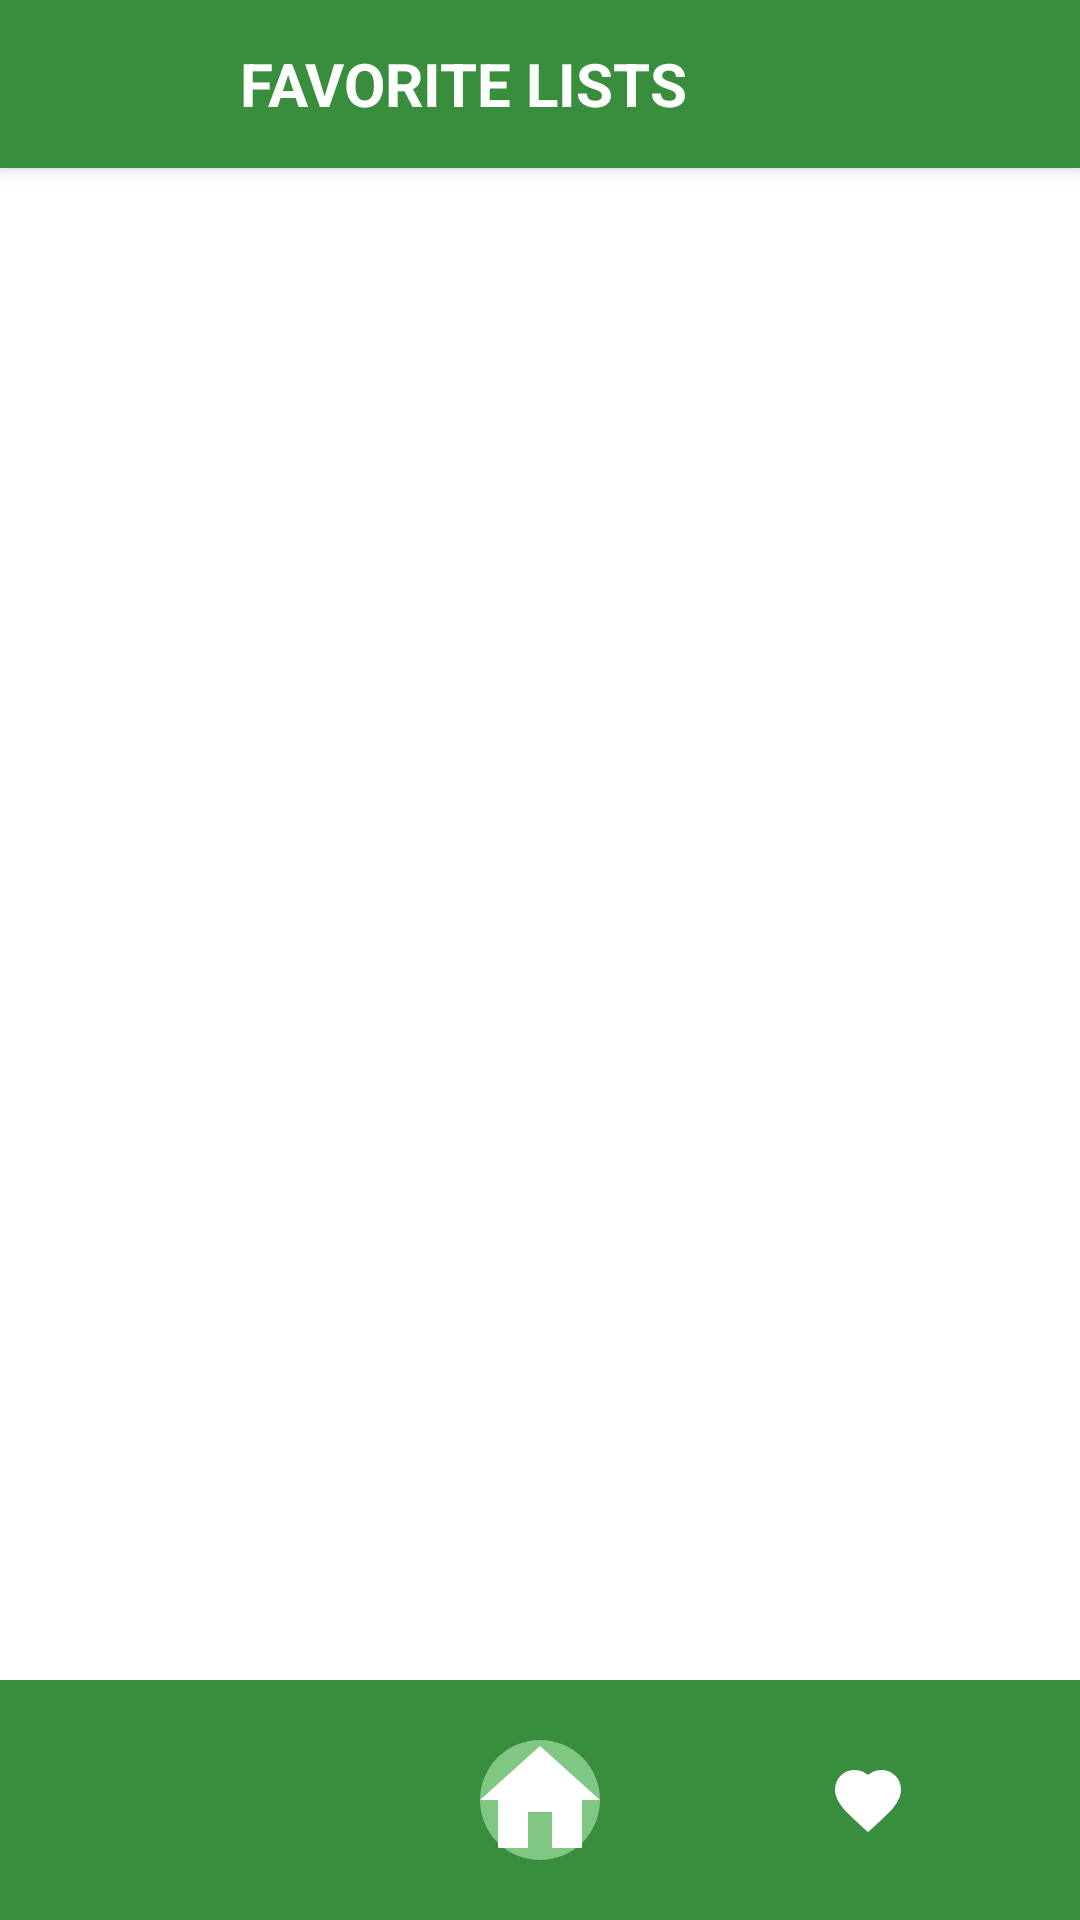

Named icons in this screenshot (1080 × 1920) and their bounding boxes, (x1, y1, x2, y2):
fav: (835, 1770, 901, 1832)
home: (480, 1740, 600, 1860)
